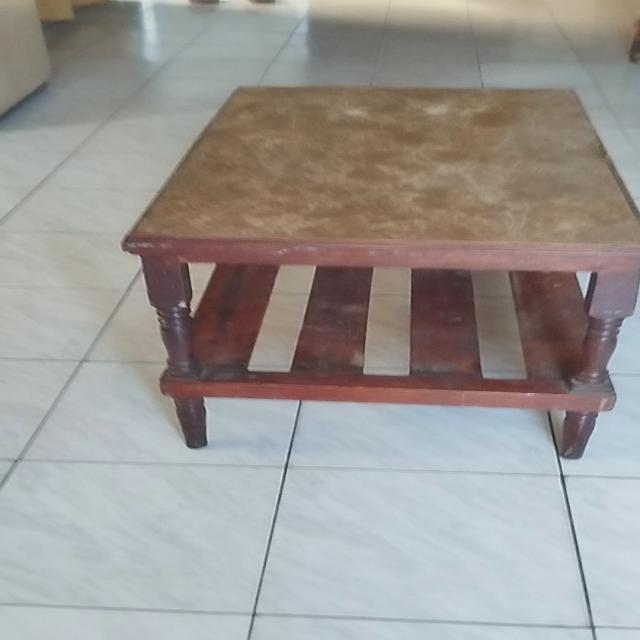table: (103, 80, 640, 466)
